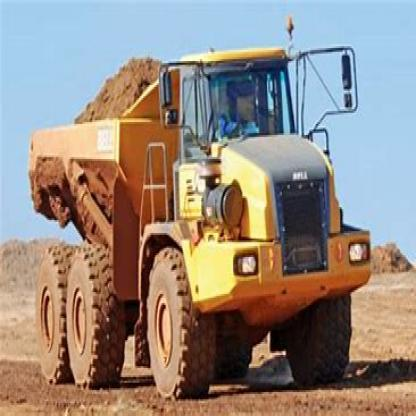dump_truck: (33, 37, 363, 386)
